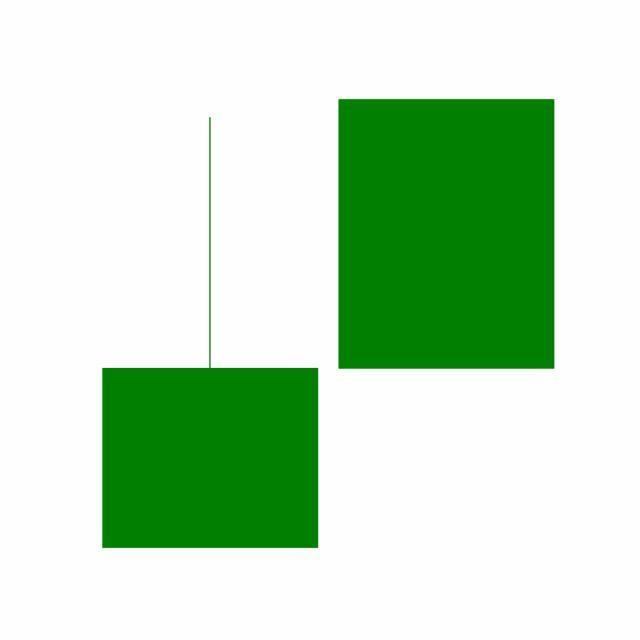Marubozu: (328, 97, 566, 372)
